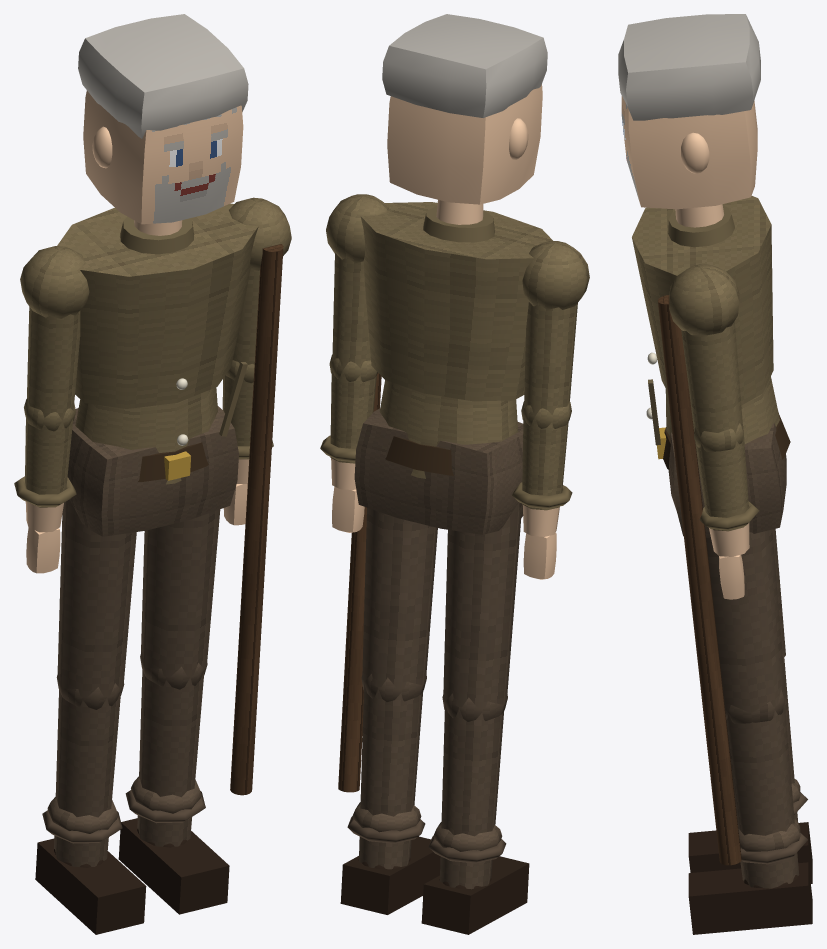
File: abuelo.glb
3 views of the same model, side by side, from view 1: azimuth 30°, elevation 25°; view 2: azimuth 150°, elevation 25°; view 3: azimuth 270°, elevation 25° (orthographic). The views are drawn at different scales.
Visible parts, largest first — view 1: abuelo, object 35, object 32, object 30, object 1, object 8, object 10, object 3, object 7, object 14, object 17, object 16 (+16 smaller); view 2: abuelo, object 35, object 32, object 1, object 8, object 3, object 10, object 30, object 7, object 17, object 14, object 16 (+19 smaller); view 3: abuelo, object 35, object 30, object 32, object 8, object 10, object 14, object 24, object 23, object 26, object 7, object 12 (+10 smaller).
Part boxes in pixels (left/top/right/bottom): abuelo: left=57, top=203, right=258, bottom=536; object 35: left=78, top=14, right=248, bottom=138; object 32: left=83, top=90, right=243, bottom=224; object 30: left=230, top=244, right=283, bottom=795; object 1: left=57, top=499, right=136, bottom=697; object 8: left=141, top=509, right=220, bottom=676; object 10: left=137, top=670, right=204, bottom=846; object 3: left=54, top=690, right=120, bottom=866; object 7: left=35, top=838, right=146, bottom=934; object 14: left=118, top=818, right=229, bottom=914; object 17: left=27, top=307, right=80, bottom=420; object 16: left=20, top=246, right=89, bottom=318; abuelo: left=354, top=202, right=552, bottom=534; object 35: left=382, top=14, right=547, bottom=117; object 32: left=387, top=84, right=542, bottom=204; object 1: left=443, top=502, right=521, bottom=708; object 8: left=362, top=507, right=437, bottom=689; object 3: left=440, top=704, right=503, bottom=889; object 10: left=359, top=684, right=423, bottom=869; object 30: left=338, top=373, right=381, bottom=792; object 7: left=421, top=856, right=529, bottom=934; object 17: left=524, top=302, right=577, bottom=416; object 14: left=340, top=836, right=440, bottom=914; object 16: left=522, top=241, right=589, bottom=309; abuelo: left=632, top=196, right=790, bottom=537; object 35: left=618, top=14, right=760, bottom=120; object 30: left=658, top=295, right=741, bottom=865; object 32: left=621, top=96, right=757, bottom=209; object 8: left=706, top=529, right=785, bottom=712; object 10: left=726, top=699, right=799, bottom=888; object 14: left=688, top=862, right=812, bottom=934; object 24: left=681, top=321, right=743, bottom=436; object 23: left=669, top=264, right=739, bottom=335; object 26: left=695, top=430, right=748, bottom=531; object 7: left=688, top=822, right=812, bottom=883; object 12: left=738, top=819, right=800, bottom=851.
Size of the model in its own units: 0.5792 by 1.85 by 0.3754.
Materials: 14 (4 with a texture image).
